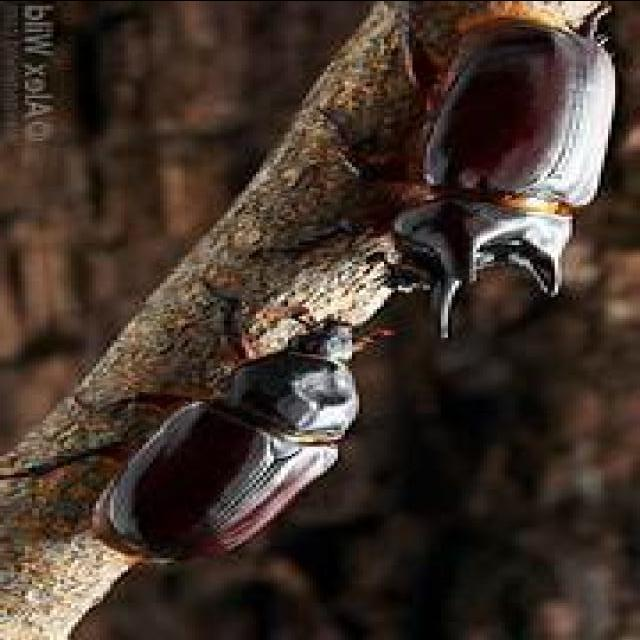Rhino-beetle: (107, 309, 375, 606), (392, 12, 622, 355)
